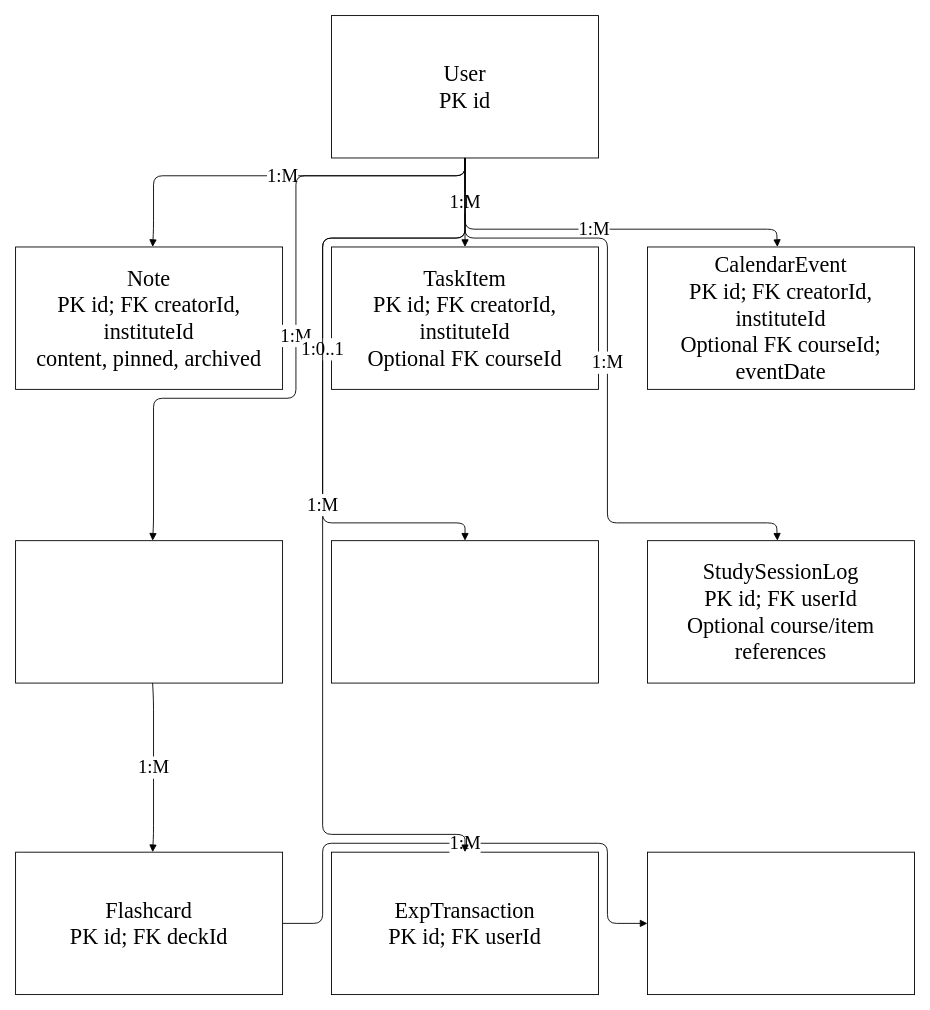
This 930x1010 diagram has some shape labels left out. The centre of each missing label's shape, as x and y in pixels:
"FlashcardDeck PK id; FK creatorId Optional FK courseId" belongs at pixel 149 611.
"FlashcardProgress PK id; FK userId, cardId" belongs at pixel 780 923.
"GamificationProfile PK id; unique FK userId EXP and progression records" belongs at pixel 465 611.
